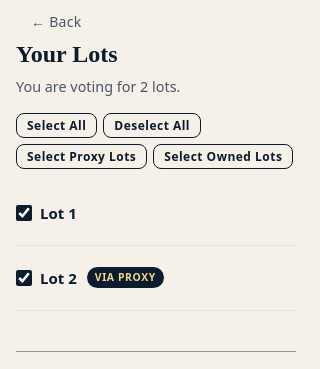
Scenario: VotingPage › Select Owned Lots button only shown when there is a proxy lot and selects only owned lots
// Click it — only lo1 (owned) should be selected
Click the button with aria-label "Select owned lots only": (223, 156) x1=153 y1=144 x2=293 y2=169
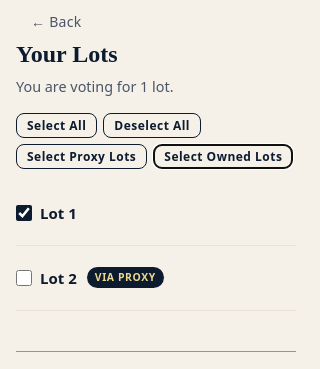
Expected: the 1st checkbox is checked, x1=16 y1=205 x2=32 y2=221
Expected: the checkbox in the row of "via Proxy" is not checked, x1=16 y1=270 x2=32 y2=286
